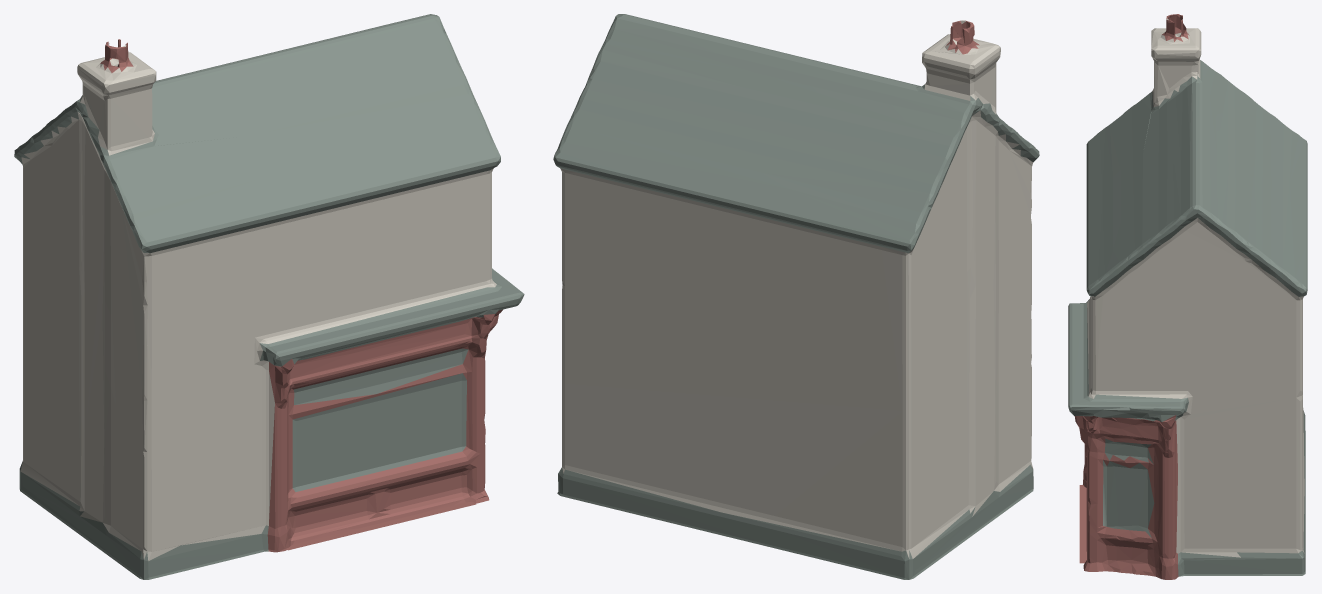
The picture shows the model from 3 angles, left to right: view 1: azimuth 30°, elevation 25°; view 2: azimuth 150°, elevation 25°; view 3: azimuth 270°, elevation 25°; orthographic projection. The views are drawn at different scales.
Parts seen in each view (by area): view 1: geometry_0; view 2: geometry_0; view 3: geometry_0.
Boxes of the visible parts, x1,y1,x2,y2 form: geometry_0: (14,14,524,579); geometry_0: (553,14,1039,579); geometry_0: (1068,14,1307,579).
Bounding box in the file's own units: 0.7698 × 0.9648 × 0.4979.
